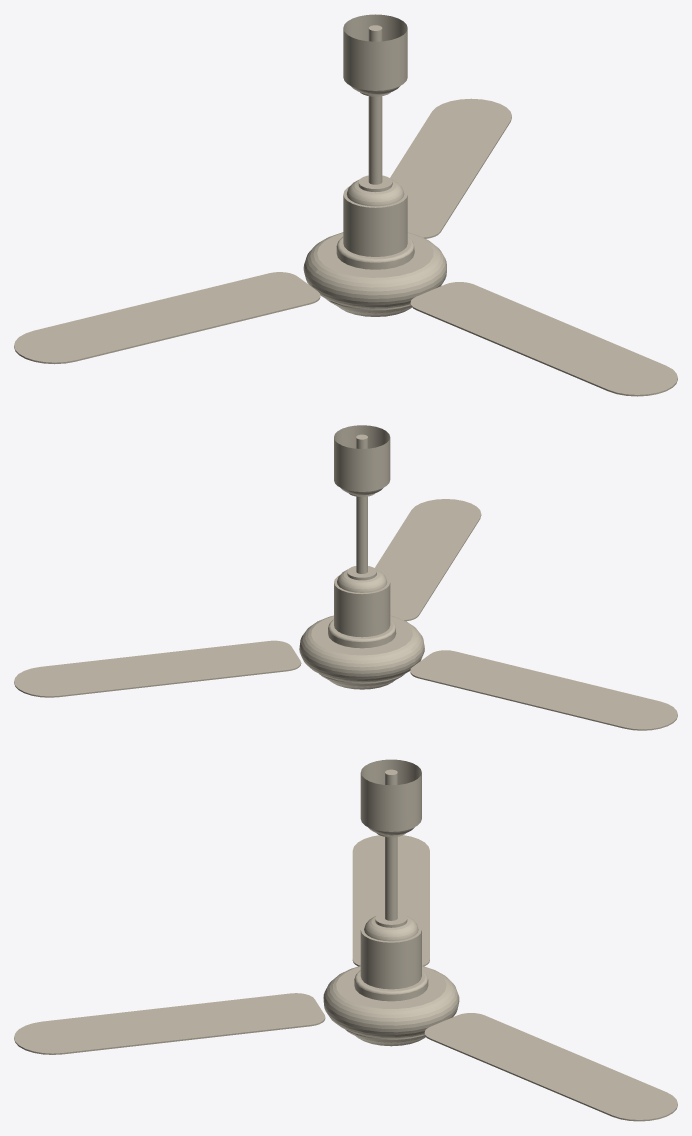
File: Fan - 3.gltf
The picture shows the model from 3 angles, top to bottom: view 1: azimuth 30°, elevation 25°; view 2: azimuth 150°, elevation 25°; view 3: azimuth 270°, elevation 25°; orthographic projection. The views are drawn at different scales.
Visible parts, largest first — view 1: root; view 2: root; view 3: root.
Boxes of the visible parts, x1=… form: root: x1=14, y1=14, x2=677, y2=396; root: x1=14, y1=425, x2=677, y2=730; root: x1=14, y1=759, x2=677, y2=1121.
Bounding box in the file's own units: 1.05 × 0.4417 × 1.03.
